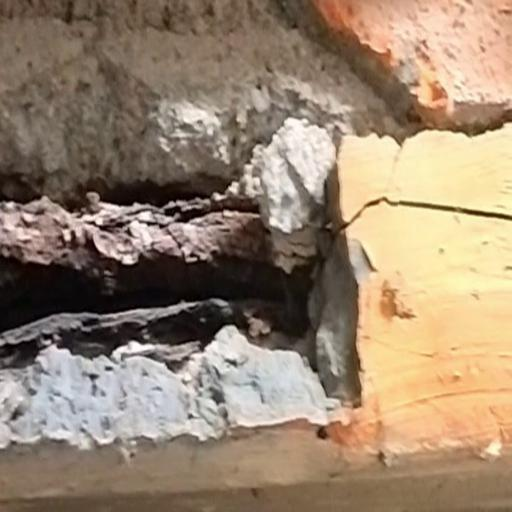spalling: (9, 0, 456, 477)
